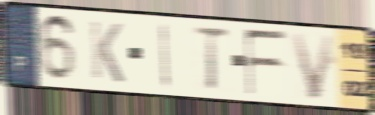6: (37, 12, 80, 84)
F: (242, 28, 289, 97)
I: (159, 21, 172, 90)
K: (88, 18, 126, 86)
T: (190, 25, 231, 93)
V: (288, 30, 338, 102)
